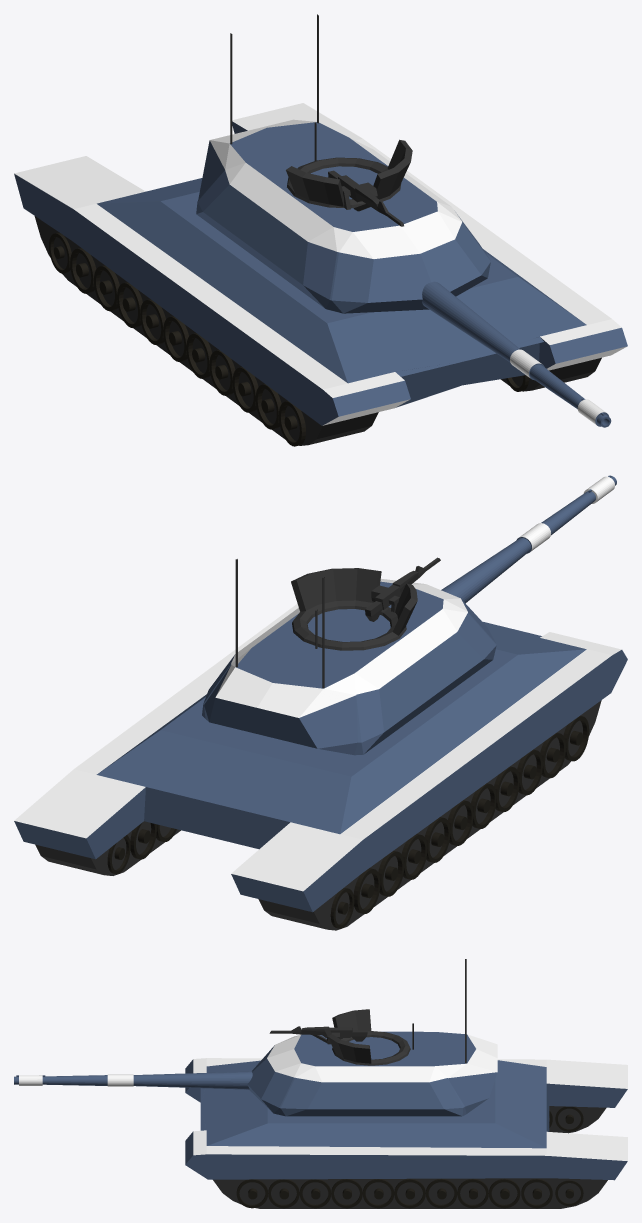
File: HuiXiong 1.fbx
The picture shows the model from 3 angles, top to bottom: view 1: azimuth 30°, elevation 25°; view 2: azimuth 150°, elevation 25°; view 3: azimuth 270°, elevation 25°; orthographic projection. The views are drawn at different scales.
Visible parts, largest first — view 1: Body.001, MainTower.001, PaoTa.001, PaoGuan.001; view 2: Body.001, MainTower.001, PaoTa.001, PaoGuan.001; view 3: Body.001, MainTower.001, PaoGuan.001, PaoTa.001.
Part boxes in pixels (bbox=[...]): Body.001: bbox=[14, 103, 627, 446]; MainTower.001: bbox=[196, 14, 490, 313]; PaoTa.001: bbox=[286, 139, 412, 226]; PaoGuan.001: bbox=[422, 281, 611, 427]; Body.001: bbox=[14, 603, 627, 930]; MainTower.001: bbox=[202, 559, 496, 755]; PaoTa.001: bbox=[291, 557, 440, 650]; PaoGuan.001: bbox=[441, 475, 616, 603]; Body.001: bbox=[185, 1058, 627, 1208]; MainTower.001: bbox=[247, 959, 497, 1116]; PaoGuan.001: bbox=[14, 1071, 252, 1089]; PaoTa.001: bbox=[269, 1009, 410, 1065].
Size of the model in its own units: 165 by 148 by 438.
